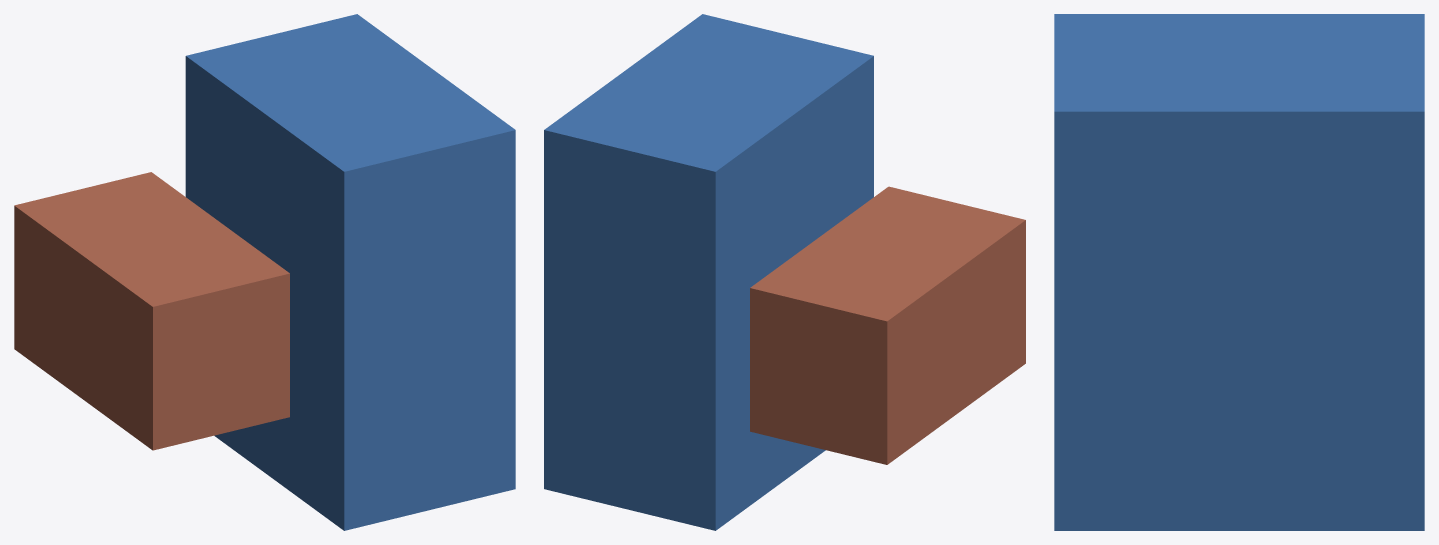
3 views of the same model, side by side, from view 1: azimuth 30°, elevation 25°; view 2: azimuth 150°, elevation 25°; view 3: azimuth 270°, elevation 25° (orthographic). The views are drawn at different scales.
Visible parts, largest first — view 1: desk, chair; view 2: desk, chair; view 3: desk.
Part boxes in pixels (x1,y1,x2,y2): desk: (185,14,515,530); chair: (14,172,289,450); desk: (544,14,873,530); chair: (750,186,1025,464); desk: (1054,14,1424,530).
Size of the model in its own units: 1 by 1 by 0.8.
